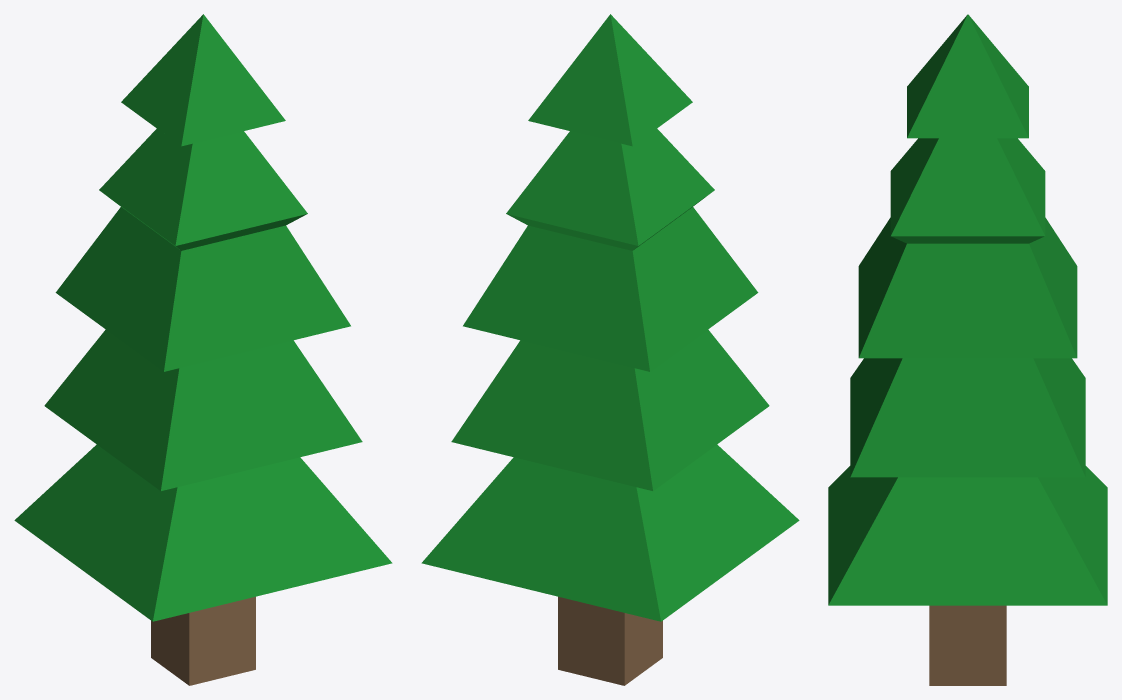
File: tree.glb
The picture shows the model from 3 angles, left to right: view 1: azimuth 30°, elevation 25°; view 2: azimuth 150°, elevation 25°; view 3: azimuth 270°, elevation 25°; orthographic projection.
Visible parts, largest first — view 1: Cube; view 2: Cube; view 3: Cube.
Boxes of the visible parts, box(x1,y1,x2,y2) form: Cube: box(14, 14, 392, 685); Cube: box(421, 14, 799, 685); Cube: box(828, 14, 1107, 685).
Bounding box in the file's own units: 3 × 7.77 × 3.
